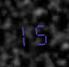five: (34, 20, 48, 46)
one: (19, 21, 33, 47)
